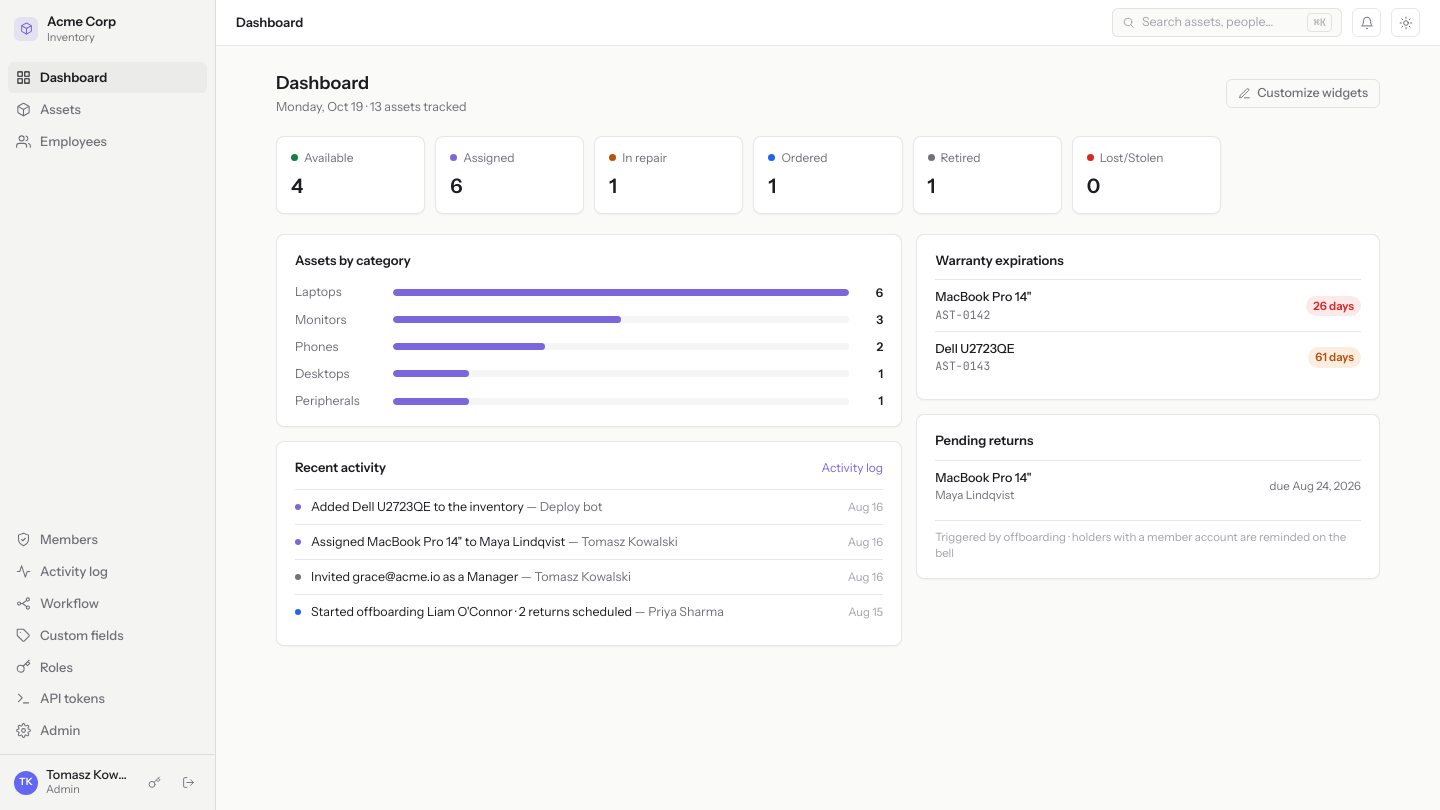
changing your own password › shows the failure whole when it is not a field's
The width and height of the screenshot is (1440, 810).
Step 1. Click the button named "Change password" → click(154, 782), box [141,770,167,796]
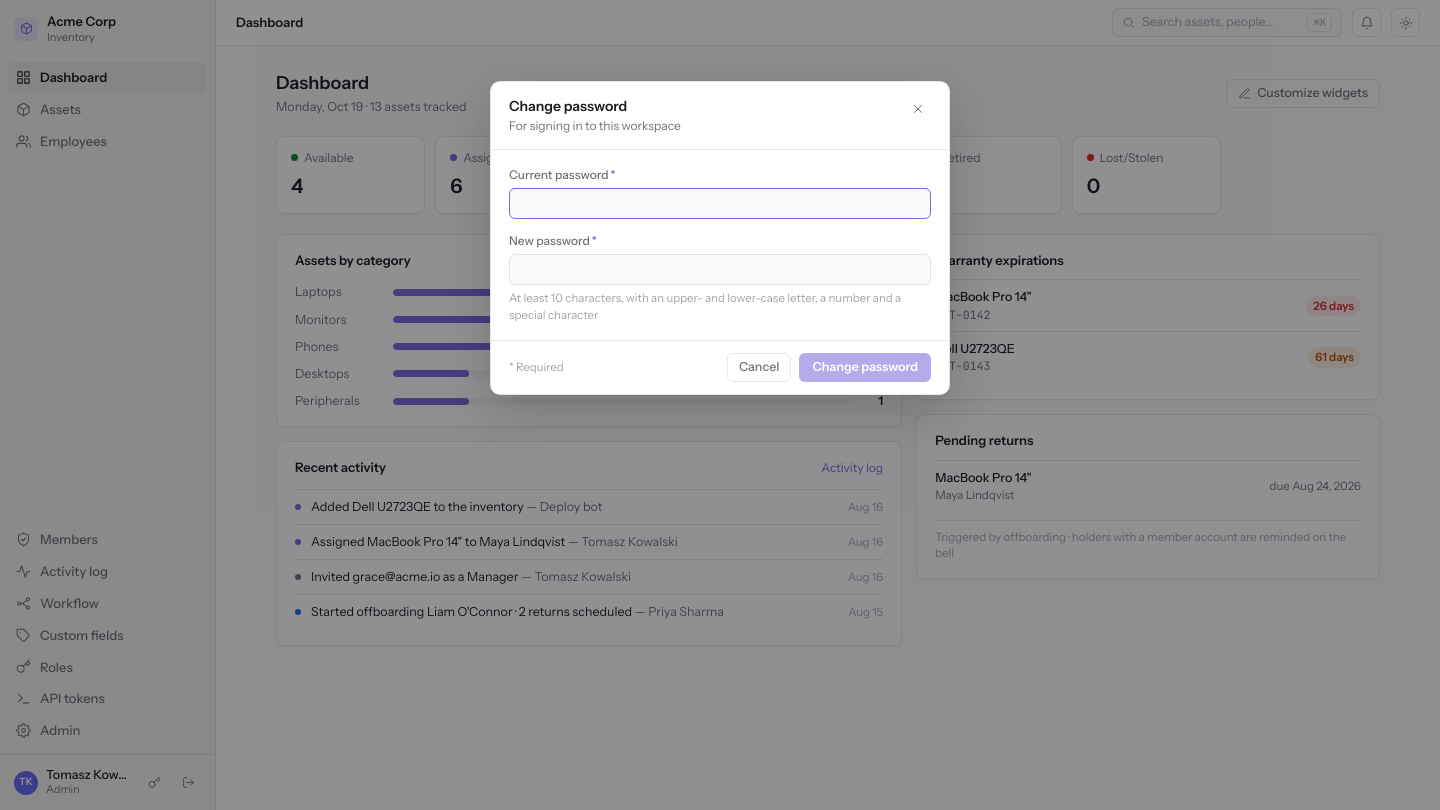
Step 2. Type "the-old-password" into the password field labelled "Current password" → (720, 204), box [509,188,931,219]
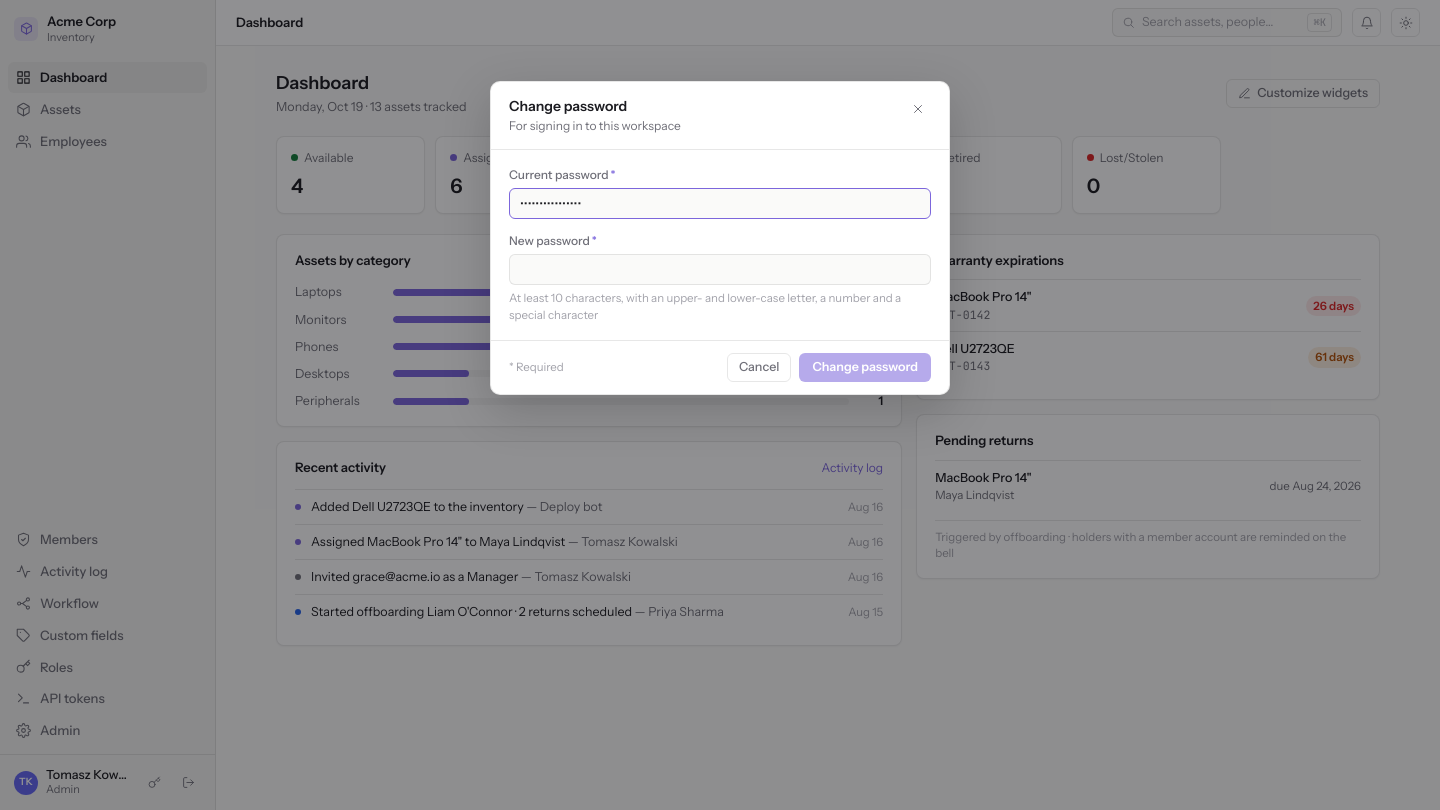
Step 3. Type "the-new-password-here" into the password field labelled "New password" → (720, 270), box [509,254,931,286]
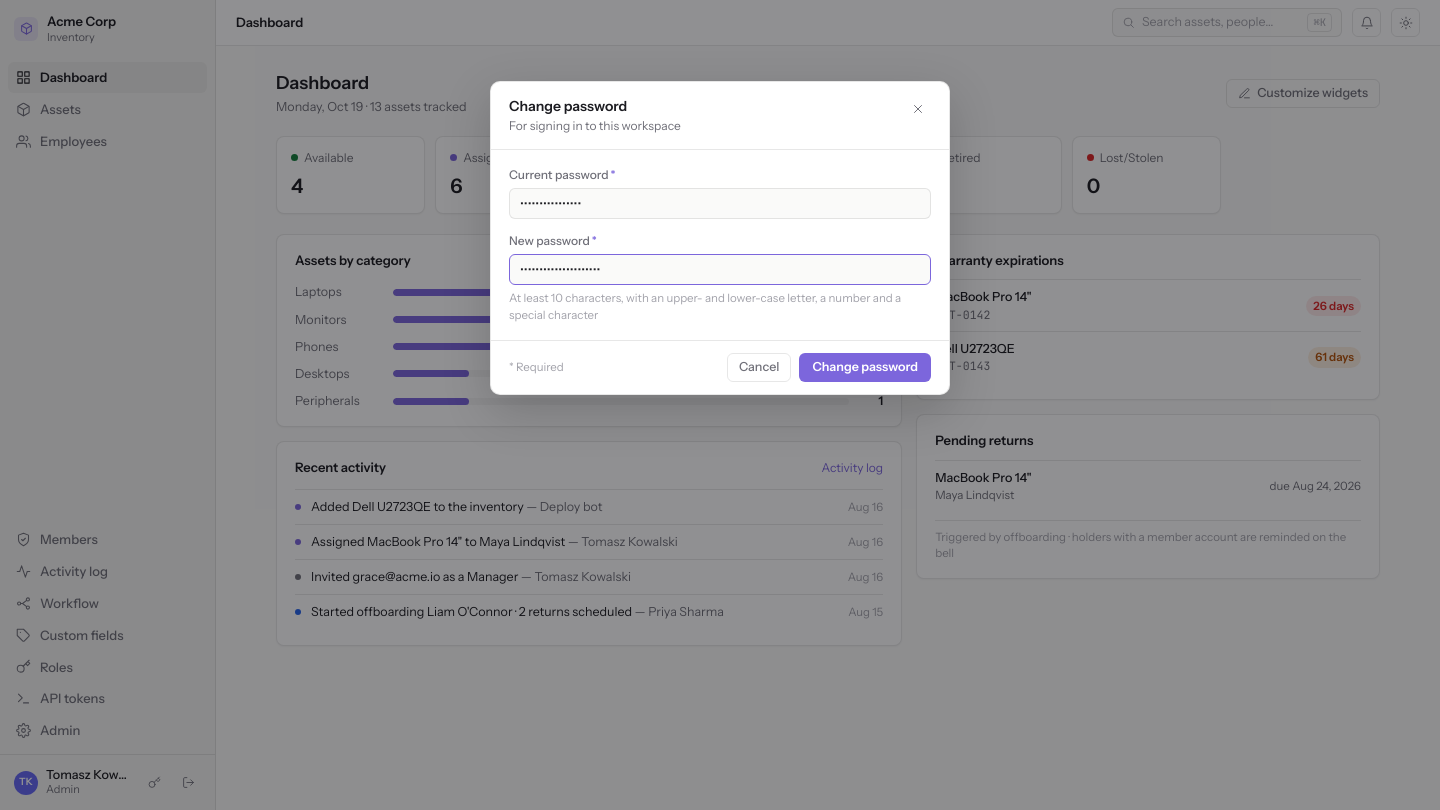
Step 4. Click the button "Change password" → click(865, 367), box [799,353,931,382]
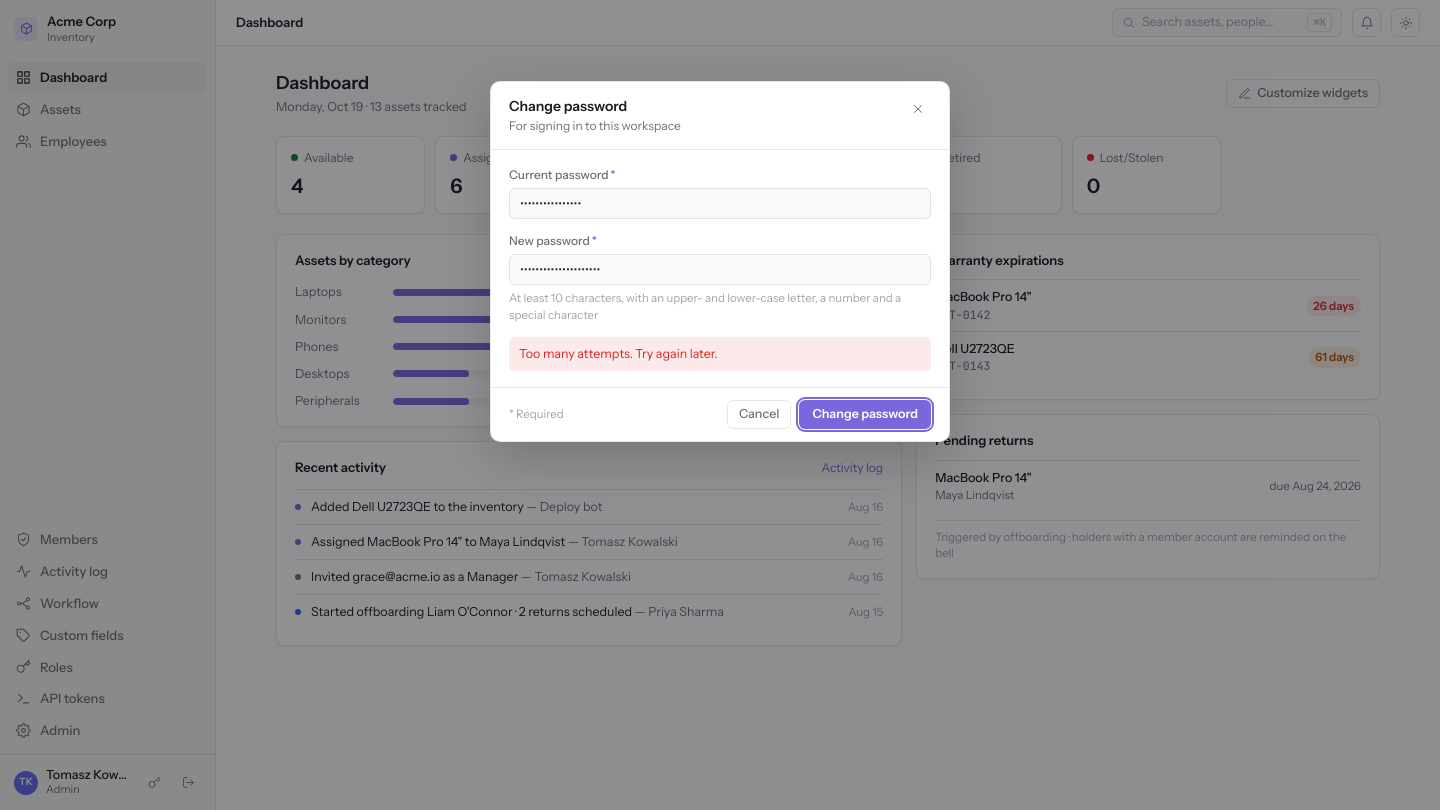
Check: the dialog is shown, box [490,81,950,442]
Check: the message reads "Too many attempts. Try again later.", box [519,346,717,361]
